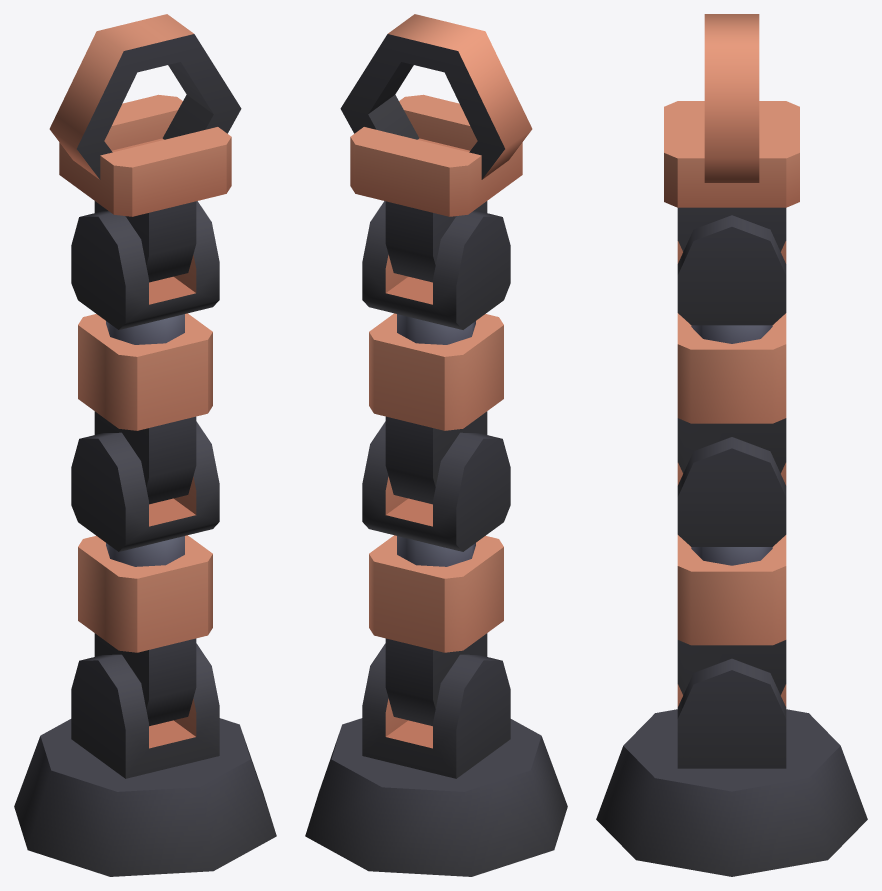
File: robot-arm-a.obj
3 renders of one model, left to right at view 1: azimuth 30°, elevation 25°; view 2: azimuth 150°, elevation 25°; view 3: azimuth 270°, elevation 25°, orthographic.
Visible parts, largest first — view 1: robot-arm-a, element-b, element-d, element-f, element-a, element-c, element-e, claw-b, claw-a; view 2: robot-arm-a, element-b, element-d, element-f, element-a, element-c, element-e, claw-b, claw-a; view 3: robot-arm-a, element-d, element-b, element-f, element-a, element-e, element-c, claw-a, claw-b.
Part boxes in pixels (left/top/right/bottom): robot-arm-a: left=14, top=718, right=276, bottom=876; element-b: left=78, top=535, right=212, bottom=726; element-d: left=78, top=313, right=212, bottom=504; element-f: left=59, top=94, right=231, bottom=282; element-a: left=71, top=643, right=219, bottom=778; element-c: left=71, top=421, right=219, bottom=551; element-e: left=71, top=201, right=219, bottom=329; claw-b: left=49, top=22, right=158, bottom=179; claw-a: left=132, top=14, right=241, bottom=139; robot-arm-a: left=305, top=718, right=567, bottom=876; element-b: left=369, top=535, right=503, bottom=726; element-d: left=369, top=313, right=503, bottom=504; element-f: left=350, top=94, right=522, bottom=282; element-a: left=362, top=643, right=510, bottom=778; element-c: left=362, top=421, right=510, bottom=551; element-e: left=362, top=201, right=510, bottom=329; claw-b: left=423, top=22, right=532, bottom=179; claw-a: left=340, top=14, right=449, bottom=139; robot-arm-a: left=596, top=709, right=867, bottom=876; element-d: left=677, top=313, right=786, bottom=473; element-b: left=677, top=535, right=786, bottom=694; element-f: left=664, top=101, right=799, bottom=251; element-a: left=677, top=658, right=786, bottom=768; element-e: left=677, top=215, right=786, bottom=325; element-c: left=677, top=437, right=786, bottom=546; claw-a: left=704, top=31, right=759, bottom=182; claw-b: left=704, top=14, right=759, bottom=31.
Bounding box in the file's own units: 1 × 3.2 × 1.
